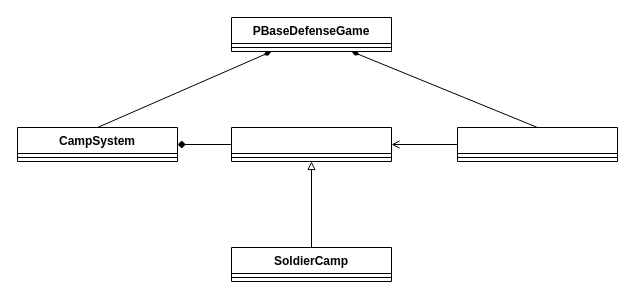
Some shapes in this 635 by 299 pixel diagram are drawn without their labels. The shapes that lost their labels are listed below. From the top down, each one's box as (x1, y1, x2, y2) in pixels, then its label:
(230, 126, 392, 162): ICamp
(456, 126, 618, 162): CampInfoUI
